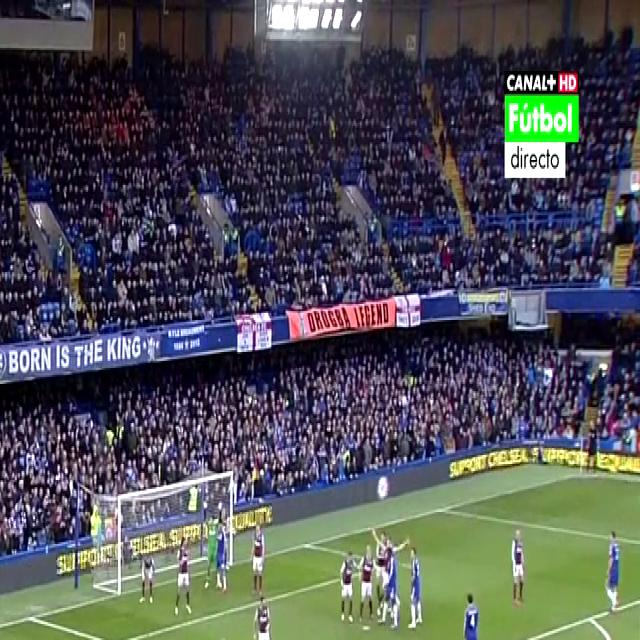referee: (211, 627, 243, 640)
soccer-player: (601, 520, 624, 616), (404, 541, 426, 638), (508, 515, 530, 609), (172, 537, 195, 623), (208, 516, 228, 596), (333, 550, 353, 628), (248, 522, 268, 599), (457, 581, 483, 640), (140, 541, 160, 608), (250, 592, 274, 640)
